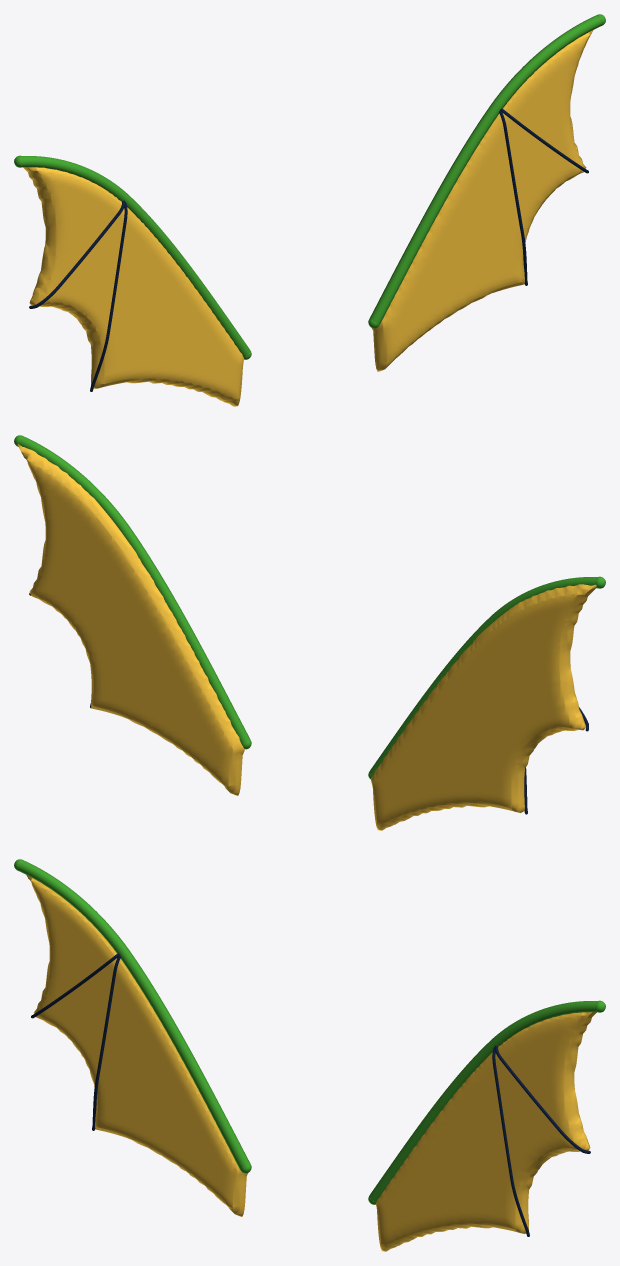
The model's file is wings-bat.glb.
3 renders of one model, top to bottom at view 1: azimuth 30°, elevation 25°; view 2: azimuth 150°, elevation 25°; view 3: azimuth 330°, elevation 25°, orthographic.
Parts seen in each view (by area): view 1: wings_0_solid, wings_5_solid, wings_8_line, wings_3_line, wings_2_line, wings_7_line, wings_1_line; view 2: wings_0_solid, wings_5_solid, wings_8_line, wings_3_line; view 3: wings_5_solid, wings_0_solid, wings_3_line, wings_8_line, wings_7_line, wings_2_line, wings_6_line.
Boxes of the visible parts, x1,y1,x2,y2 form: wings_0_solid: [23, 167, 243, 406]; wings_5_solid: [372, 30, 593, 371]; wings_8_line: [368, 14, 605, 328]; wings_3_line: [14, 155, 251, 359]; wings_2_line: [90, 202, 127, 391]; wings_7_line: [499, 110, 527, 285]; wings_1_line: [29, 200, 125, 308]; wings_0_solid: [371, 584, 596, 830]; wings_5_solid: [17, 444, 244, 795]; wings_8_line: [14, 435, 251, 749]; wings_3_line: [368, 576, 605, 779]; wings_5_solid: [376, 1012, 596, 1251]; wings_0_solid: [26, 875, 247, 1216]; wings_3_line: [14, 859, 251, 1173]; wings_8_line: [368, 1000, 605, 1204]; wings_7_line: [492, 1047, 529, 1236]; wings_2_line: [92, 955, 120, 1130]; wings_6_line: [494, 1045, 590, 1153].
Size of the model in its own units: 2.02 by 0.9978 by 0.0861.
